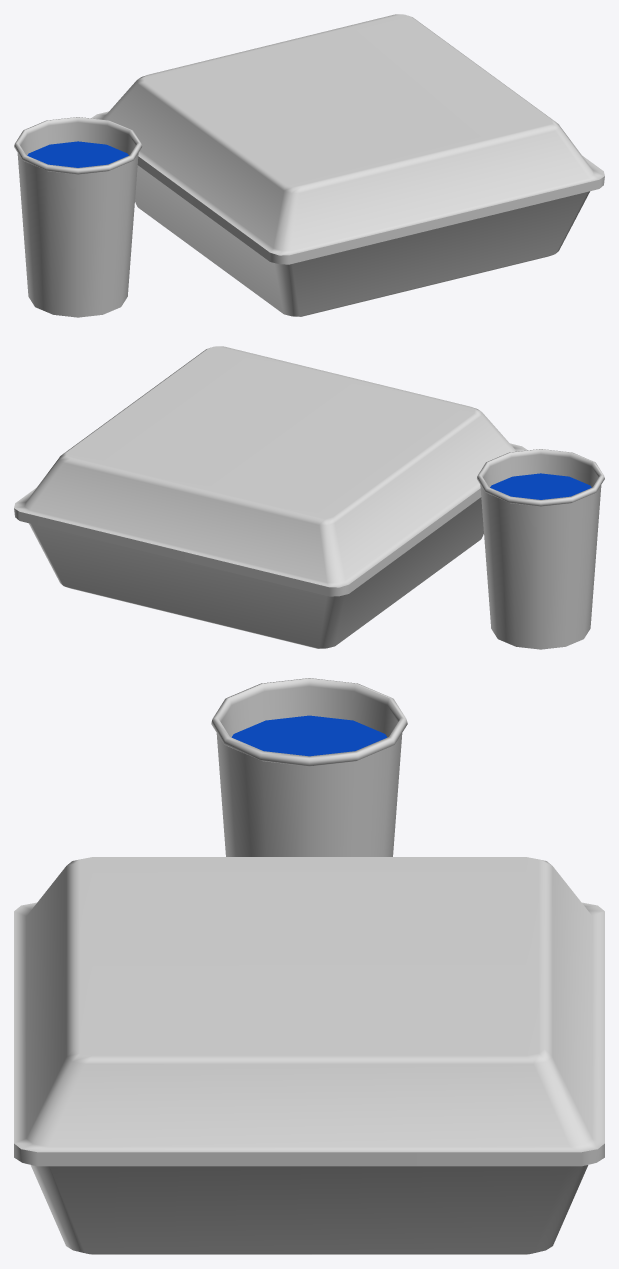
File: Sustenance.fbx
3 renders of one model, top to bottom at view 1: azimuth 30°, elevation 25°; view 2: azimuth 150°, elevation 25°; view 3: azimuth 270°, elevation 25°, orthographic. The views are drawn at different scales.
Visible parts, largest first — view 1: FoodBox, Cup, WaterPlane; view 2: FoodBox, Cup, WaterPlane; view 3: FoodBox, Cup, WaterPlane.
Part boxes in pixels (x1,y1,x2,y2): FoodBox: (91, 14, 604, 316); Cup: (14, 117, 141, 317); WaterPlane: (27, 141, 128, 167); FoodBox: (14, 346, 527, 648); Cup: (477, 449, 604, 649); WaterPlane: (490, 473, 591, 499); FoodBox: (14, 857, 604, 1254); Cup: (211, 678, 407, 856); WaterPlane: (231, 715, 387, 756).
Size of the model in its own units: 1.22 by 0.3652 by 0.8288.
